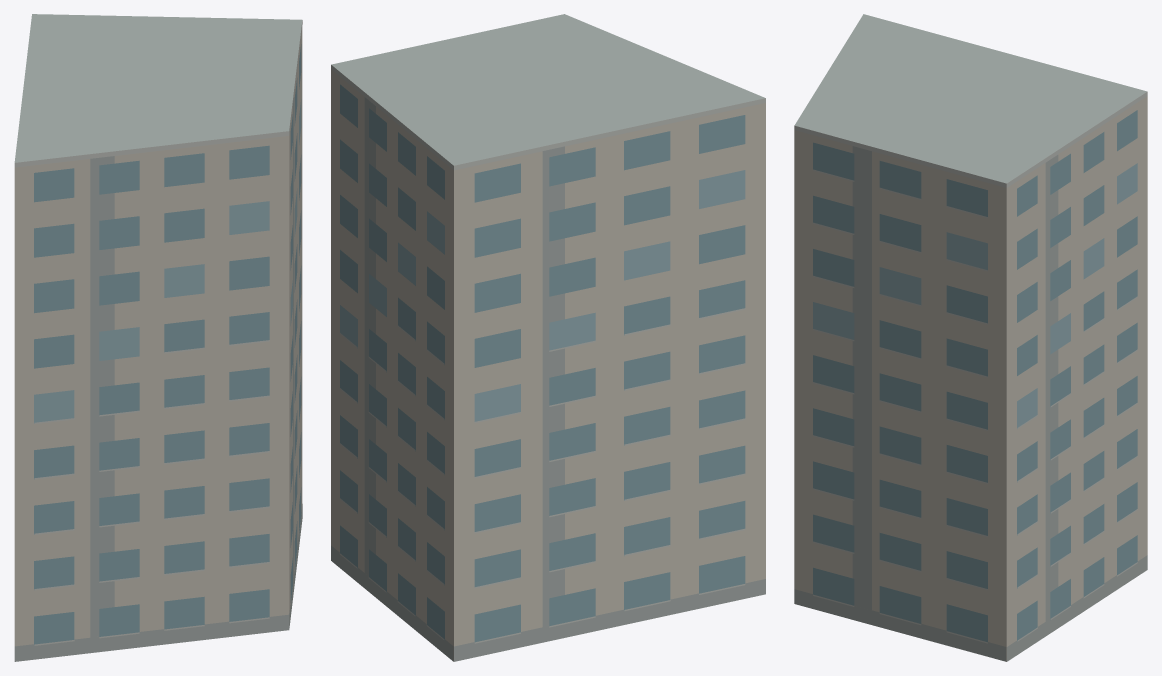
Rendered from residential-56f908eb-8cb6-4d05-be63-b447ab59dc25.glb.
3 views of the same model, side by side, from view 1: azimuth 30°, elevation 25°; view 2: azimuth 150°, elevation 25°; view 3: azimuth 270°, elevation 25° (orthographic). The views are drawn at different scales.
Visible parts, largest first — view 1: residential-56f908eb-8cb6-4d05-be63-b447ab59dc25.tmp; view 2: residential-56f908eb-8cb6-4d05-be63-b447ab59dc25.tmp; view 3: residential-56f908eb-8cb6-4d05-be63-b447ab59dc25.tmp.
Part boxes in pixels (bbox=[...]): residential-56f908eb-8cb6-4d05-be63-b447ab59dc25.tmp: bbox=[14, 14, 302, 661]; residential-56f908eb-8cb6-4d05-be63-b447ab59dc25.tmp: bbox=[331, 14, 765, 661]; residential-56f908eb-8cb6-4d05-be63-b447ab59dc25.tmp: bbox=[794, 14, 1147, 661].
Bounding box in the file's own units: 19.78 × 26 × 17.41.
